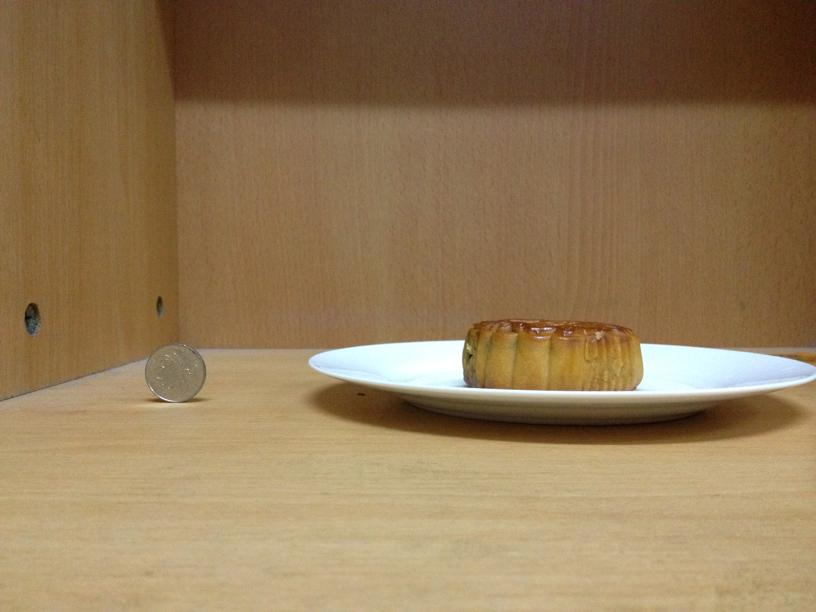coin: (144, 342, 205, 402)
mooncake: (459, 318, 643, 389)
